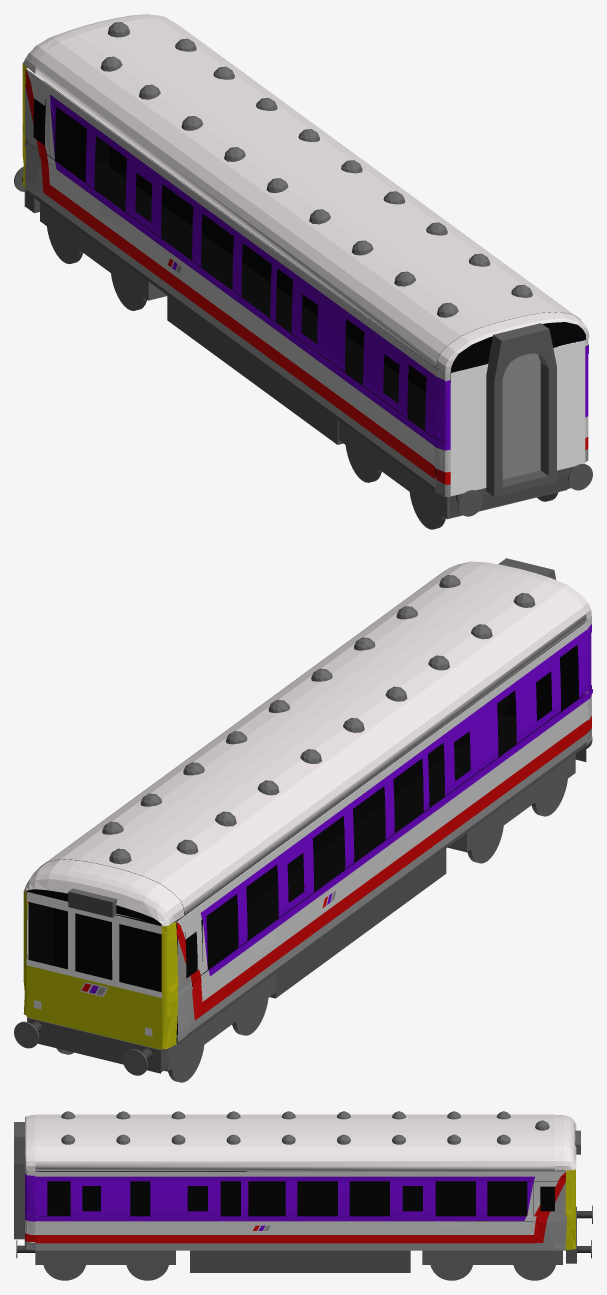
Rendered from br-104-nse-c.dae.
The picture shows the model from 3 angles, top to bottom: view 1: azimuth 30°, elevation 25°; view 2: azimuth 150°, elevation 25°; view 3: azimuth 270°, elevation 25°; orthographic projection. The views are drawn at different scales.
Parts seen in each view (by area): view 1: Suzanne_002, Plane_007, Plane_001, Plane_023, Tube_003, Plane_221, Cube, Plane_129, Plane_006, Suzanne_006, Suzanne_001, Plane_004 (+11 smaller); view 2: Suzanne_002, Plane_007, Plane_023, Plane_100, Plane_199, Suzanne, Cube, Plane_006, Suzanne_001, Plane_129, Plane_004, Plane_178 (+15 smaller); view 3: Suzanne_002, Plane_031, Plane_129, Suzanne_001, Cube, Plane_234, Plane_235, Cube_043, Cube_043_001, Plane_174, Plane_196, Tube_003 (+24 smaller).
Part boxes in pixels (x1=…): Suzanne_002: x1=36, y1=18, x2=580, y2=360; Plane_007: x1=49, y1=164, x2=436, y2=491; Plane_001: x1=450, y1=340, x2=585, y2=496; Plane_023: x1=91, y1=161, x2=448, y2=476; Tube_003: x1=486, y1=323, x2=556, y2=496; Plane_221: x1=502, y1=353, x2=540, y2=479; Cube: x1=167, y1=295, x2=343, y2=444; Plane_129: x1=109, y1=128, x2=487, y2=392; Plane_006: x1=25, y1=68, x2=436, y2=375; Suzanne_006: x1=436, y1=312, x2=589, y2=372; Suzanne_001: x1=35, y1=67, x2=437, y2=367; Plane_004: x1=50, y1=94, x2=435, y2=383; Suzanne_002: x1=39, y1=564, x2=585, y2=907; Plane_007: x1=201, y1=699, x2=588, y2=1023; Plane_023: x1=236, y1=714, x2=543, y2=948; Plane_100: x1=26, y1=970, x2=162, y2=1049; Plane_199: x1=53, y1=908, x2=161, y2=992; Suzanne: x1=24, y1=859, x2=184, y2=926; Cube: x1=270, y1=849, x2=446, y2=998; Plane_006: x1=176, y1=621, x2=587, y2=929; Suzanne_001: x1=183, y1=614, x2=586, y2=915; Plane_129: x1=172, y1=678, x2=509, y2=923; Plane_004: x1=200, y1=629, x2=587, y2=918; Plane_178: x1=26, y1=892, x2=162, y2=997; Suzanne_002: x1=35, y1=1114, x2=554, y2=1160; Plane_031: x1=35, y1=1221, x2=534, y2=1250; Plane_129: x1=38, y1=1170, x2=556, y2=1217; Suzanne_001: x1=35, y1=1161, x2=554, y2=1170; Cube: x1=190, y1=1250, x2=410, y2=1272; Plane_234: x1=35, y1=1171, x2=565, y2=1176; Plane_235: x1=35, y1=1176, x2=534, y2=1181; Cube_043: x1=35, y1=1216, x2=175, y2=1264; Cube_043_001: x1=422, y1=1250, x2=562, y2=1264; Plane_174: x1=35, y1=1216, x2=526, y2=1219; Plane_196: x1=150, y1=1181, x2=187, y2=1216; Tube_003: x1=14, y1=1122, x2=24, y2=1239.
Bounding box in the file's own units: 2.07 × 10.5 × 2.85.
